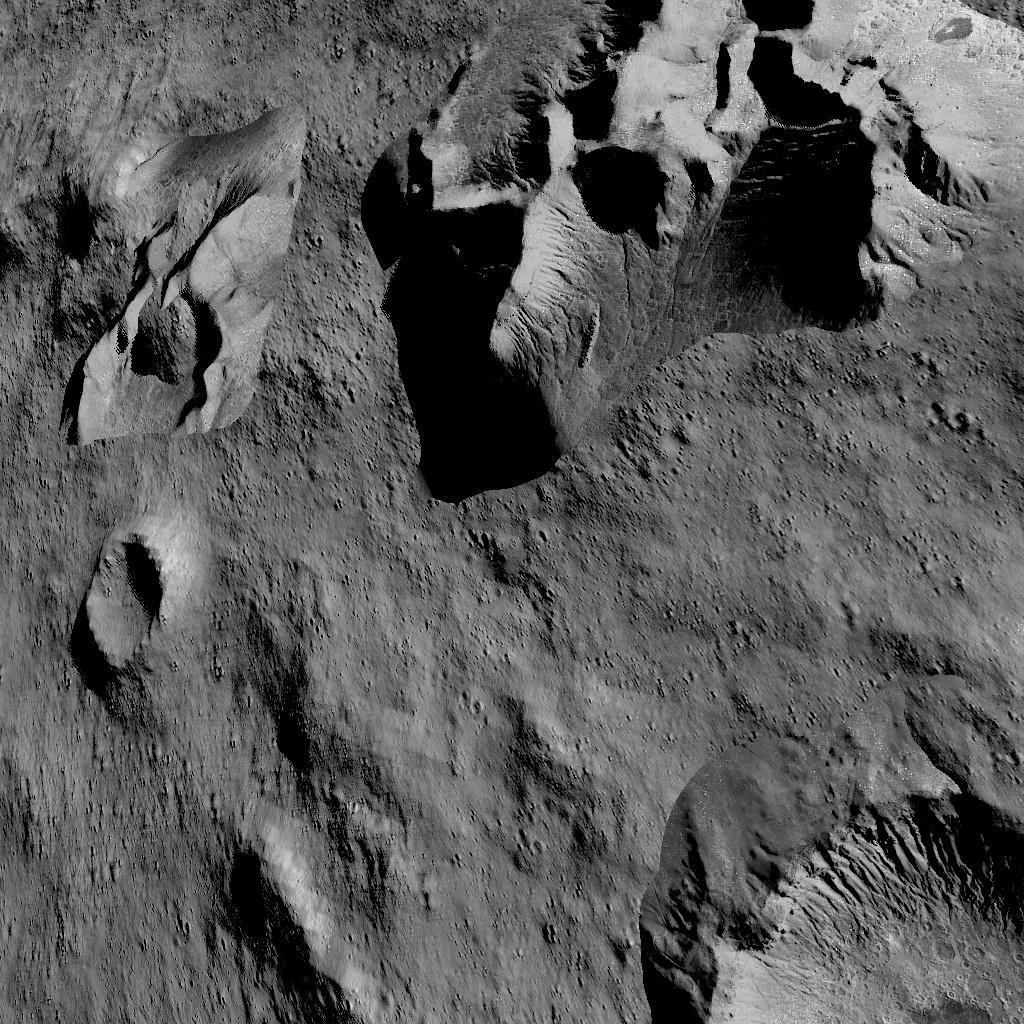Boulders: (356, 0, 1024, 503), (48, 108, 308, 448)
Crater: (659, 762, 1024, 1024), (71, 510, 181, 680)
Plan surface: (427, 516, 1024, 752), (0, 710, 272, 1024), (379, 762, 647, 1024), (0, 0, 341, 96)
